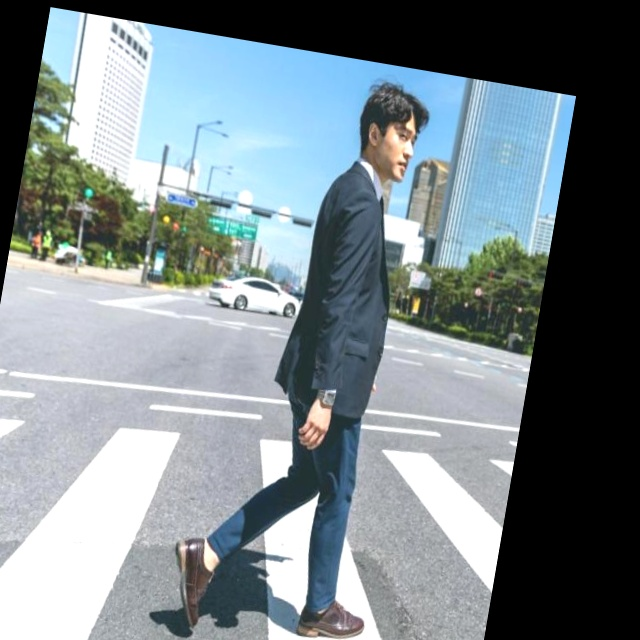Sin_Casco_Mascarrilla: (350, 77, 435, 188)
Sin_Chaleco: (285, 162, 414, 408)
